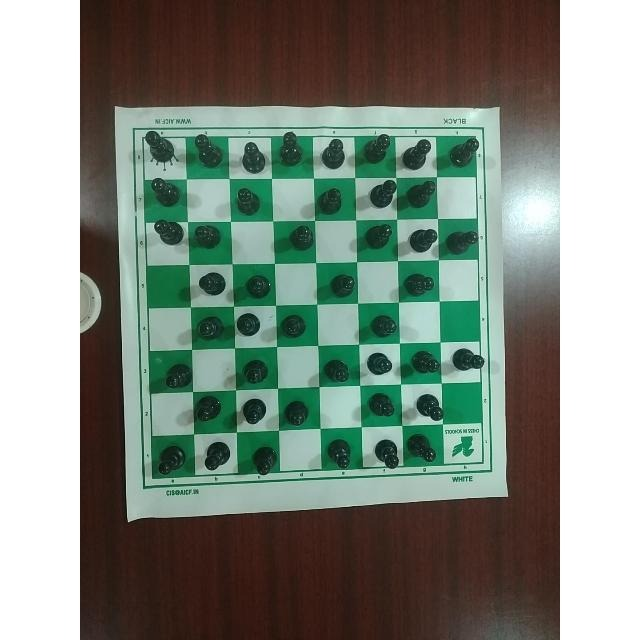black-pawn: (188, 133, 224, 173), (274, 130, 309, 170), (322, 434, 356, 474), (150, 445, 191, 478), (367, 435, 401, 473), (142, 128, 176, 165), (235, 138, 268, 176), (245, 442, 278, 480), (147, 173, 181, 209), (361, 218, 395, 253), (406, 432, 437, 470), (148, 218, 187, 248), (404, 223, 438, 257), (400, 136, 433, 171), (443, 137, 479, 169), (404, 177, 436, 213), (362, 310, 399, 341), (449, 344, 487, 374), (365, 179, 398, 213), (363, 348, 396, 382), (407, 347, 441, 380), (400, 270, 435, 302), (238, 273, 274, 304), (200, 442, 236, 473), (236, 358, 273, 388), (191, 396, 224, 429), (362, 388, 395, 421), (319, 137, 349, 173), (359, 133, 392, 165), (412, 392, 445, 424), (191, 220, 225, 251), (193, 268, 227, 299), (192, 315, 227, 345), (232, 185, 264, 217), (316, 185, 348, 217), (319, 357, 355, 385), (286, 222, 318, 253), (235, 311, 266, 343), (278, 310, 310, 341), (157, 360, 191, 389), (327, 271, 357, 302), (444, 225, 476, 254), (283, 396, 313, 426), (239, 397, 268, 428)
